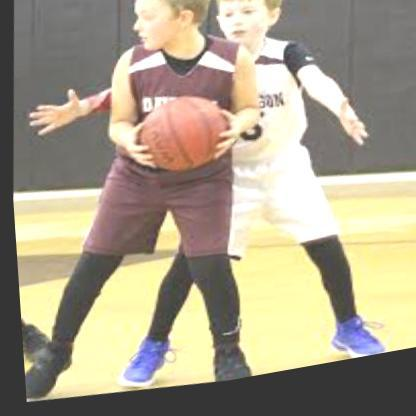basketball: (132, 95, 229, 187)
